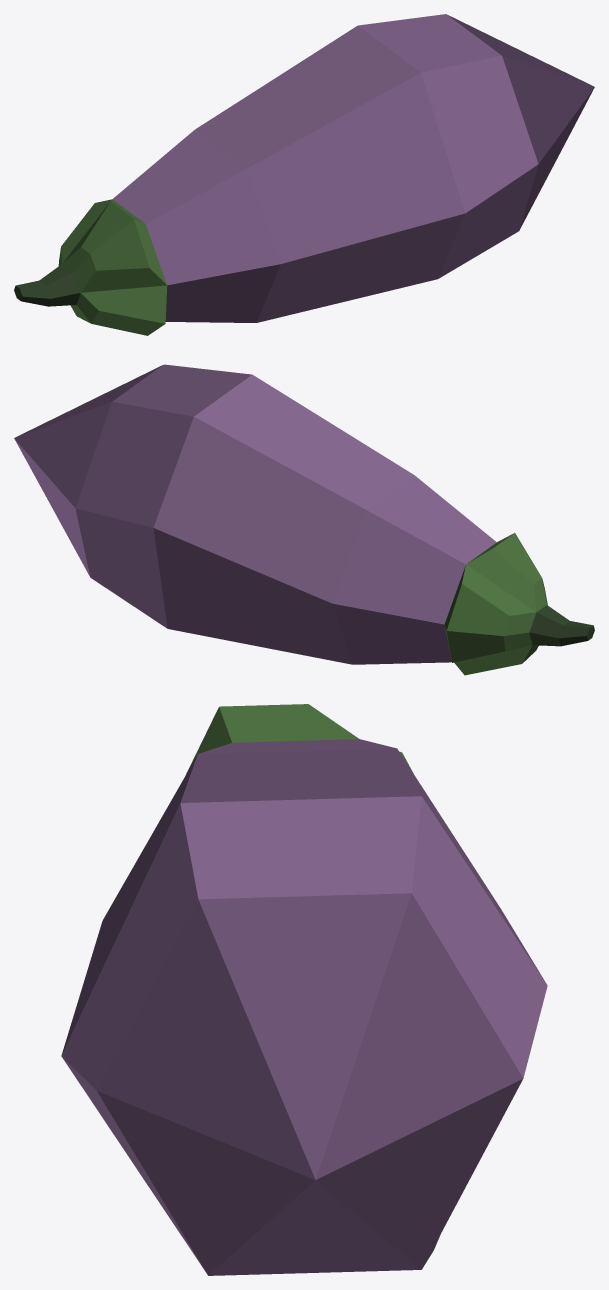
3 renders of one model, top to bottom at view 1: azimuth 30°, elevation 25°; view 2: azimuth 150°, elevation 25°; view 3: azimuth 270°, elevation 25°, orthographic. The views are drawn at different scales.
Parts seen in each view (by area): view 1: 茄子_pCylinder5; view 2: 茄子_pCylinder5; view 3: 茄子_pCylinder5.
Part boxes in pixels (bbox=[...]): 茄子_pCylinder5: bbox=[14, 14, 594, 335]; 茄子_pCylinder5: bbox=[14, 364, 594, 675]; 茄子_pCylinder5: bbox=[61, 704, 547, 1275].
Size of the model in its own units: 20.51 by 7.39 by 7.55.
Materials: 1 (1 with a texture image).
